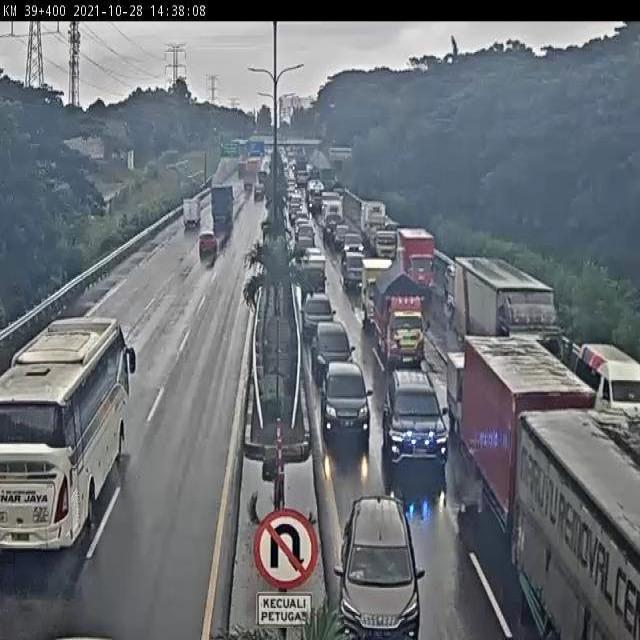big bus: (19, 303, 145, 561)
big truck: (501, 413, 640, 640), (459, 300, 582, 496), (450, 257, 563, 387), (210, 186, 239, 246)
car: (339, 501, 429, 611), (305, 368, 381, 476), (302, 315, 354, 404), (385, 383, 444, 457), (305, 313, 357, 368), (302, 286, 341, 334), (299, 260, 335, 307), (196, 227, 222, 264)
small bus: (572, 336, 640, 441)
small truck: (378, 285, 429, 372), (400, 233, 440, 307), (356, 255, 397, 322), (178, 196, 204, 235)
